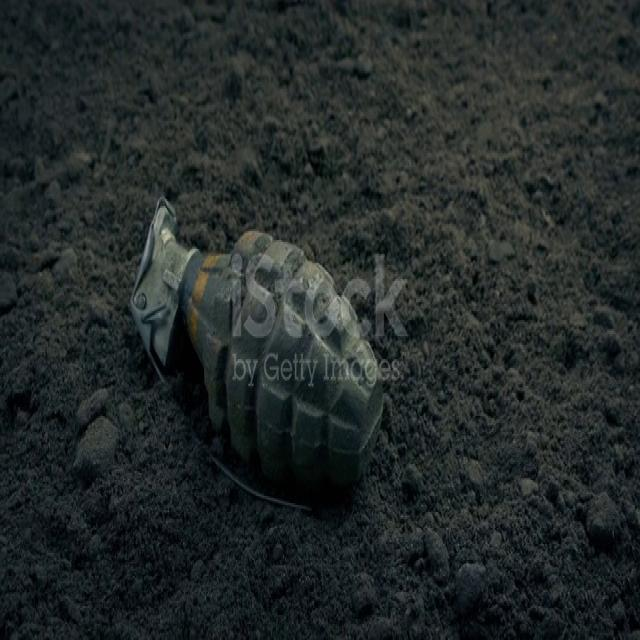grenade: (134, 206, 383, 508)
